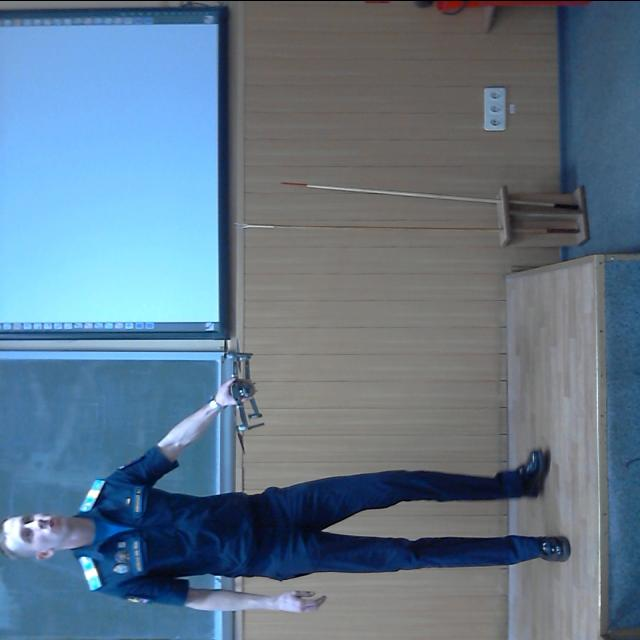drone: (206, 338, 268, 453)
